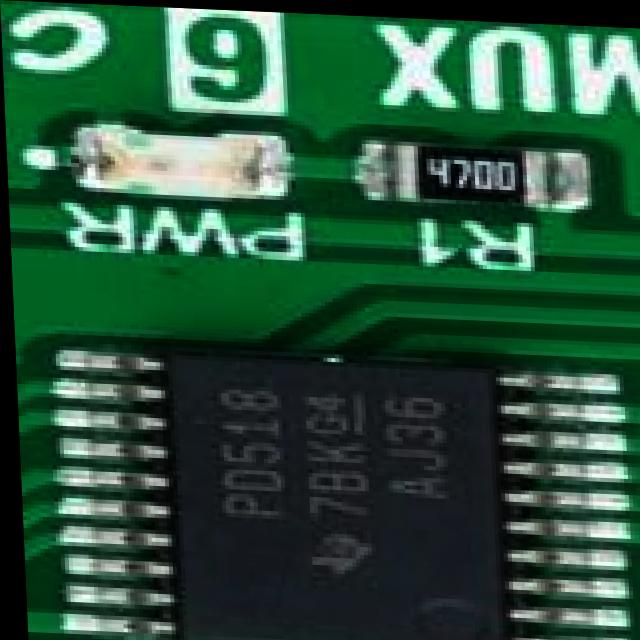IC: (79, 330, 578, 640)
LED: (74, 104, 295, 202)
resistor: (376, 127, 547, 207)
